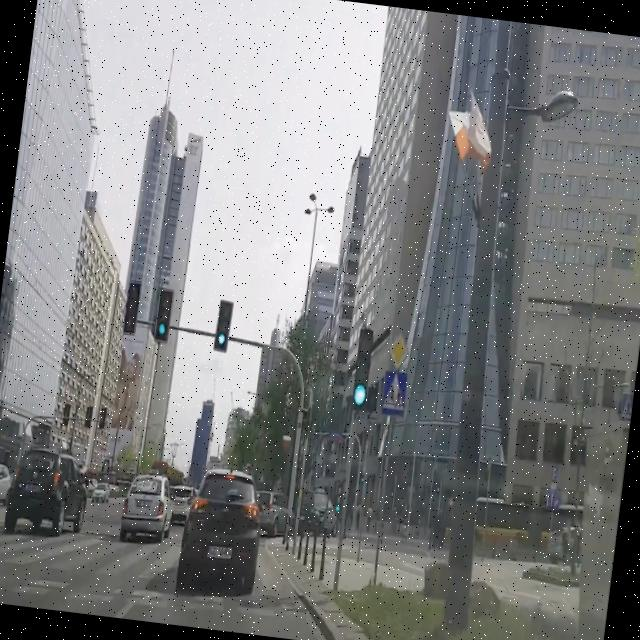Droga z pierwszenstwem: (385, 330, 411, 370)
Przejscie dla pieszych: (619, 392, 633, 419)
